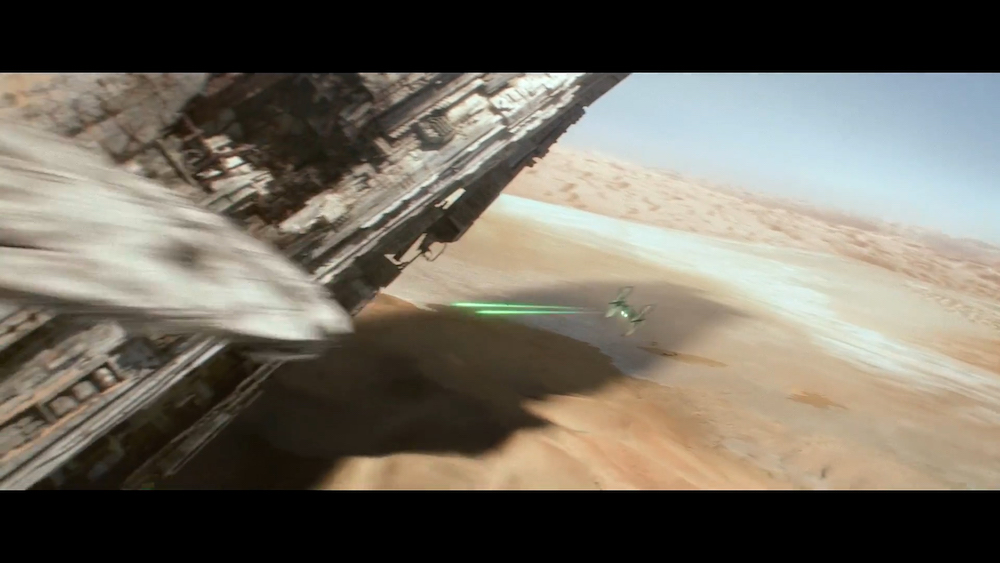Millennium Falcon: (1, 116, 358, 365)
Tie Fighter: (603, 286, 659, 340)
